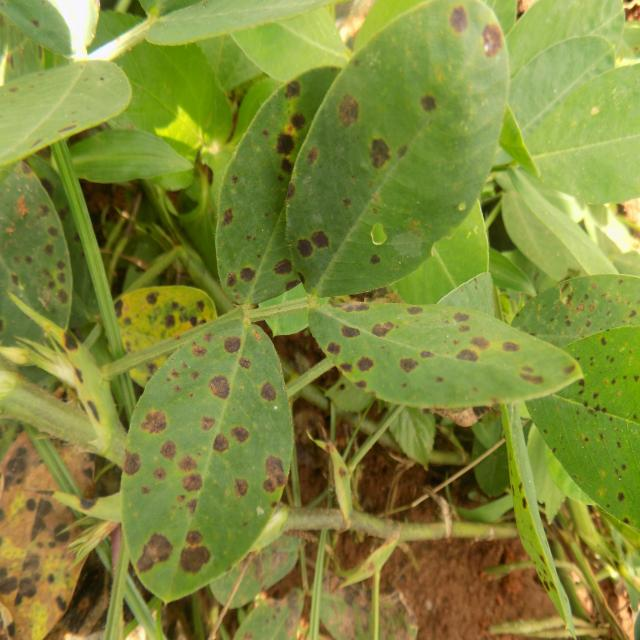Ground nut_tikka leaf spot: (285, 0, 513, 298), (117, 310, 291, 593), (218, 48, 366, 316), (307, 290, 585, 410)
